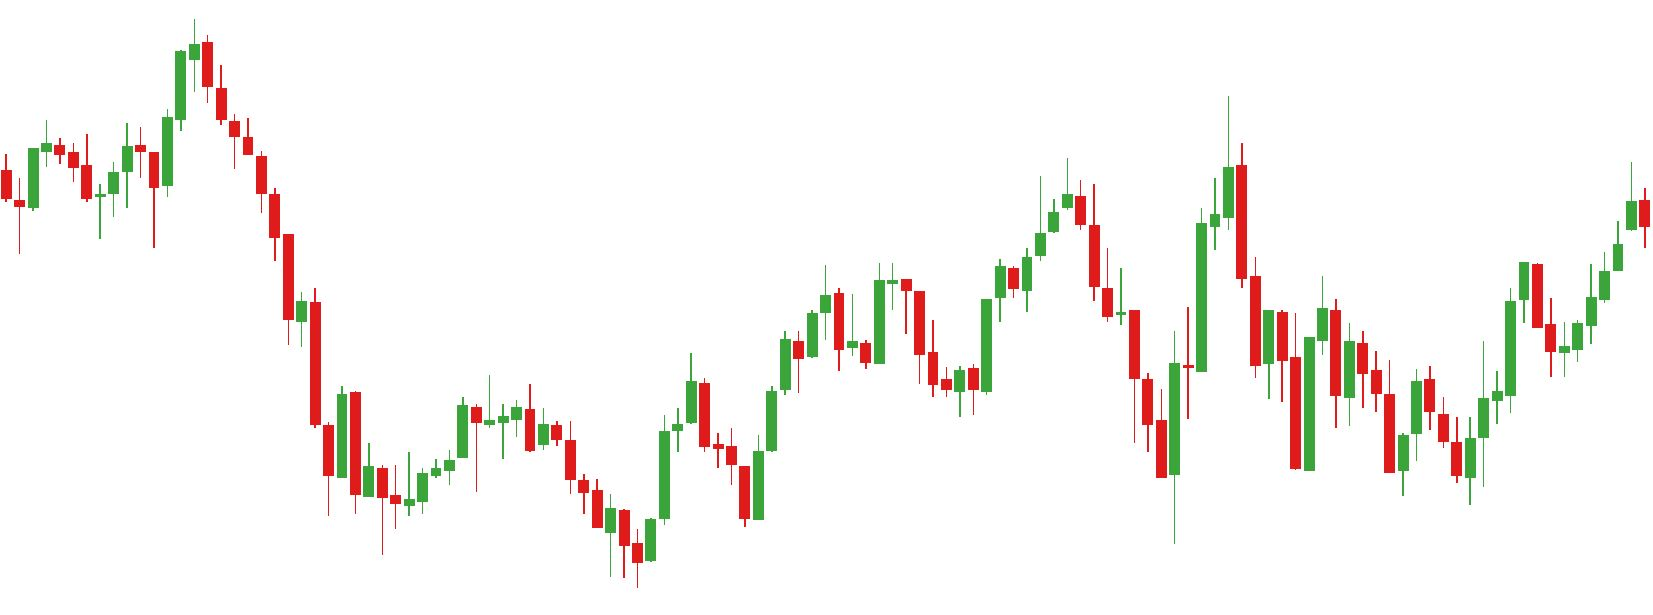buy: (375, 440, 616, 578), (1289, 349, 1411, 499)
sell: (1061, 95, 1247, 276)
